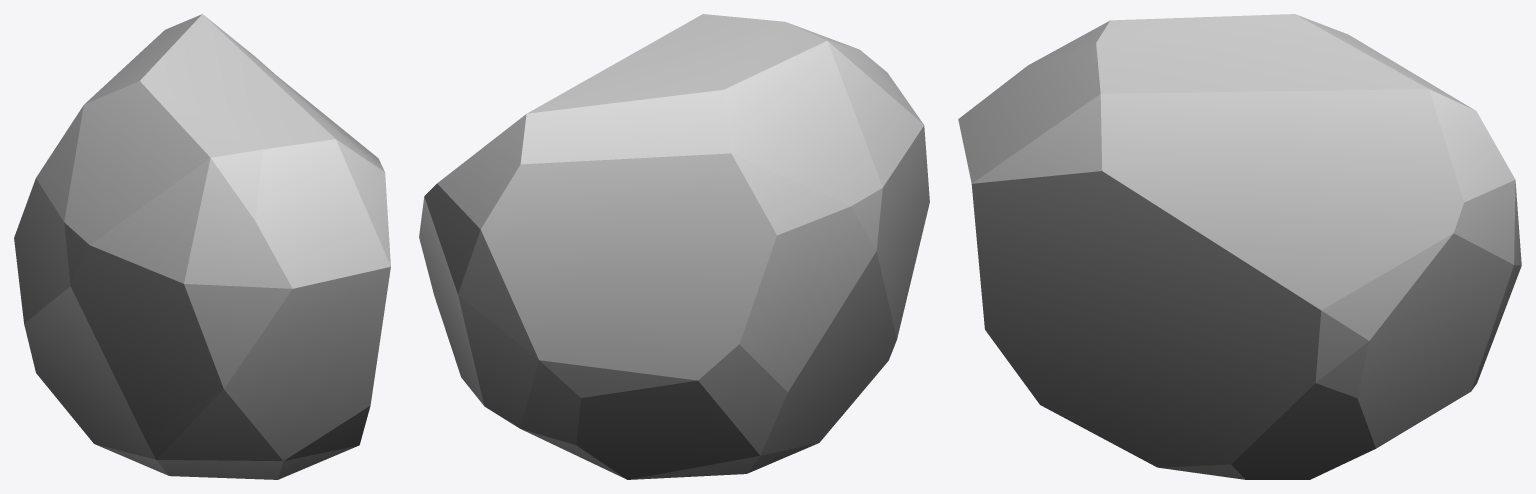
File: Rock_8.fbx
3 views of the same model, side by side, from view 1: azimuth 30°, elevation 25°; view 2: azimuth 150°, elevation 25°; view 3: azimuth 270°, elevation 25° (orthographic). The views are drawn at different scales.
Parts seen in each view (by area): view 1: Icosphere; view 2: Icosphere; view 3: Icosphere.
Boxes of the visible parts, x1=… form: Icosphere: x1=14, y1=14, x2=390, y2=479; Icosphere: x1=419, y1=14, x2=929, y2=479; Icosphere: x1=958, y1=14, x2=1521, y2=479.
Bounding box in the file's own units: 194 × 173 × 241.
